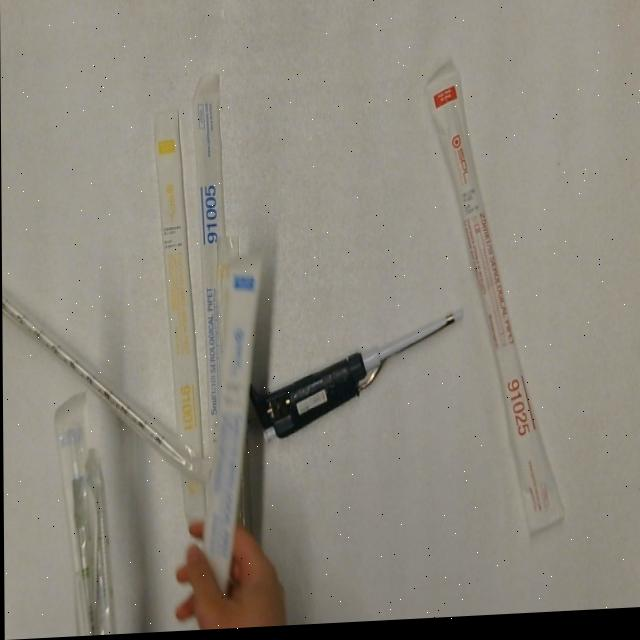Serelogical Pipet 1 mL - Sealed: (152, 100, 206, 527)
Serelogical Pipet 2 mL - Sealed: (70, 459, 116, 637)
Serelogical Pipet 25 mL - Sealed: (424, 60, 564, 552)
Serelogical Pipet 5 mL - Sealed: (192, 254, 268, 603), (193, 68, 239, 441), (47, 384, 98, 536)
Single Channel Pipettor: (247, 307, 467, 455)
